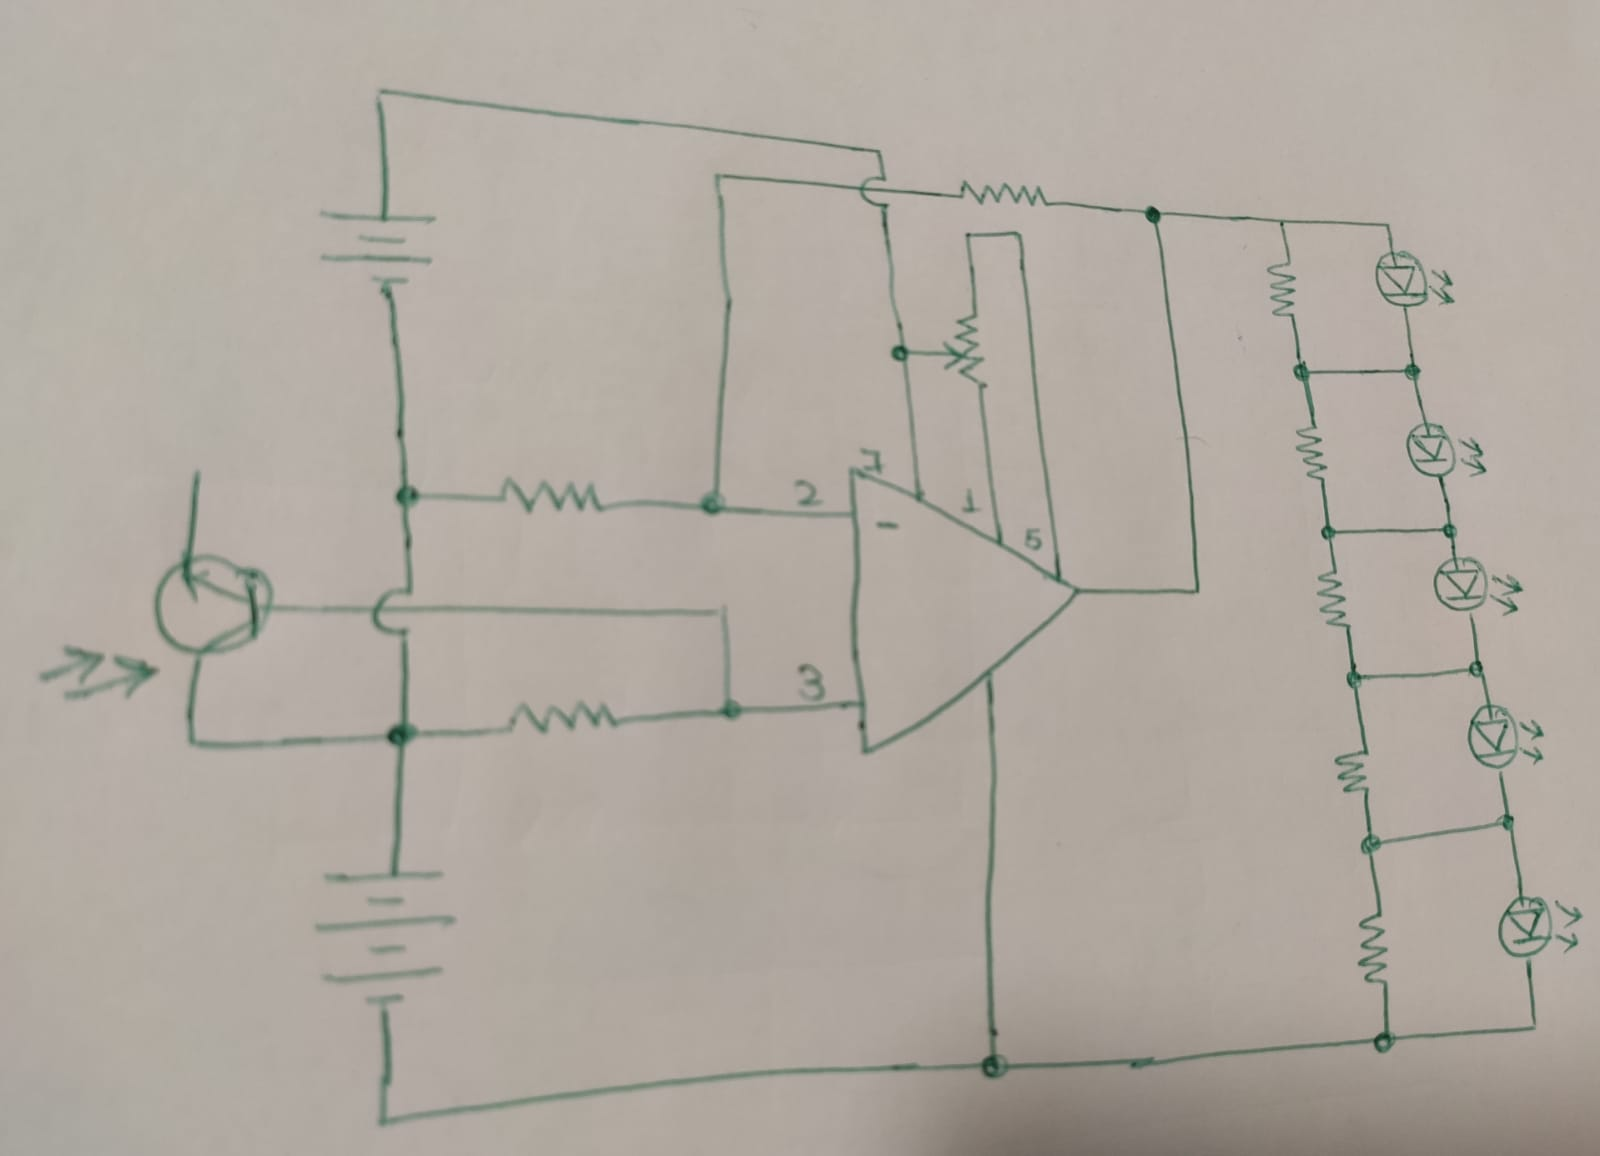crossover: (366, 579, 419, 638), (855, 171, 891, 209)
diode.light_emitting: (1494, 889, 1583, 964), (1401, 416, 1496, 485), (1430, 550, 1524, 617), (1462, 697, 1547, 770), (1375, 247, 1457, 315)
junction: (708, 685, 757, 721), (379, 716, 424, 750), (388, 479, 431, 512), (1364, 1023, 1406, 1055), (694, 483, 730, 520), (1489, 805, 1524, 841), (707, 595, 738, 632), (1358, 828, 1391, 862), (976, 1050, 1012, 1081), (366, 1104, 400, 1136), (176, 725, 211, 756), (1340, 664, 1370, 694), (1461, 649, 1488, 682), (1138, 199, 1166, 228), (1185, 577, 1212, 607), (368, 81, 395, 111), (887, 340, 916, 368), (1292, 355, 1316, 386), (706, 165, 733, 191), (1270, 210, 1294, 238), (1520, 1012, 1547, 1038), (957, 224, 983, 248), (1376, 214, 1399, 242), (1400, 358, 1424, 382), (1436, 520, 1462, 543), (1006, 224, 1030, 247), (1316, 522, 1340, 543), (867, 142, 888, 161)
operational_amplifier: (841, 462, 1092, 760)
resistor: (492, 471, 612, 519), (507, 697, 622, 736), (1352, 908, 1398, 988), (952, 178, 1051, 210), (1291, 420, 1333, 485), (1314, 561, 1352, 633), (1333, 743, 1376, 797), (1266, 256, 1299, 320)
resistor.adjustable: (932, 310, 990, 392)
terminal: (183, 454, 212, 500)
text: (794, 661, 829, 704), (791, 476, 827, 507), (858, 445, 886, 477), (958, 484, 983, 514), (1024, 525, 1045, 553), (872, 515, 904, 531)
transistor.photo: (34, 553, 273, 708)
voltage.dc: (329, 859, 446, 1009), (317, 204, 441, 294)
